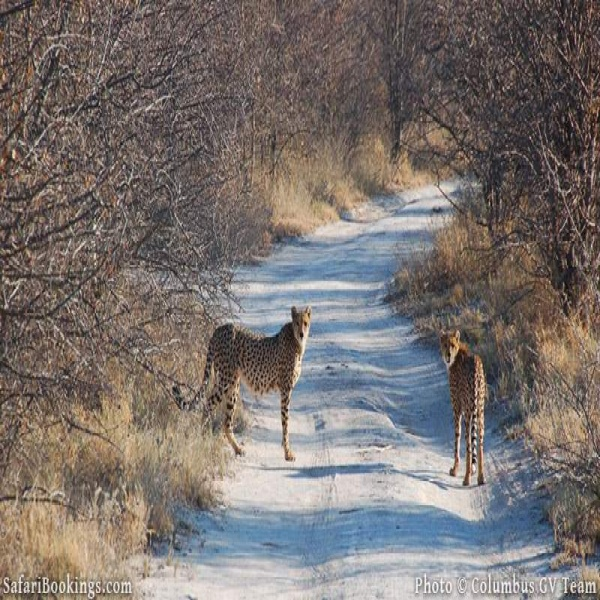Cheetah: (171, 303, 316, 464), (434, 326, 491, 486)
